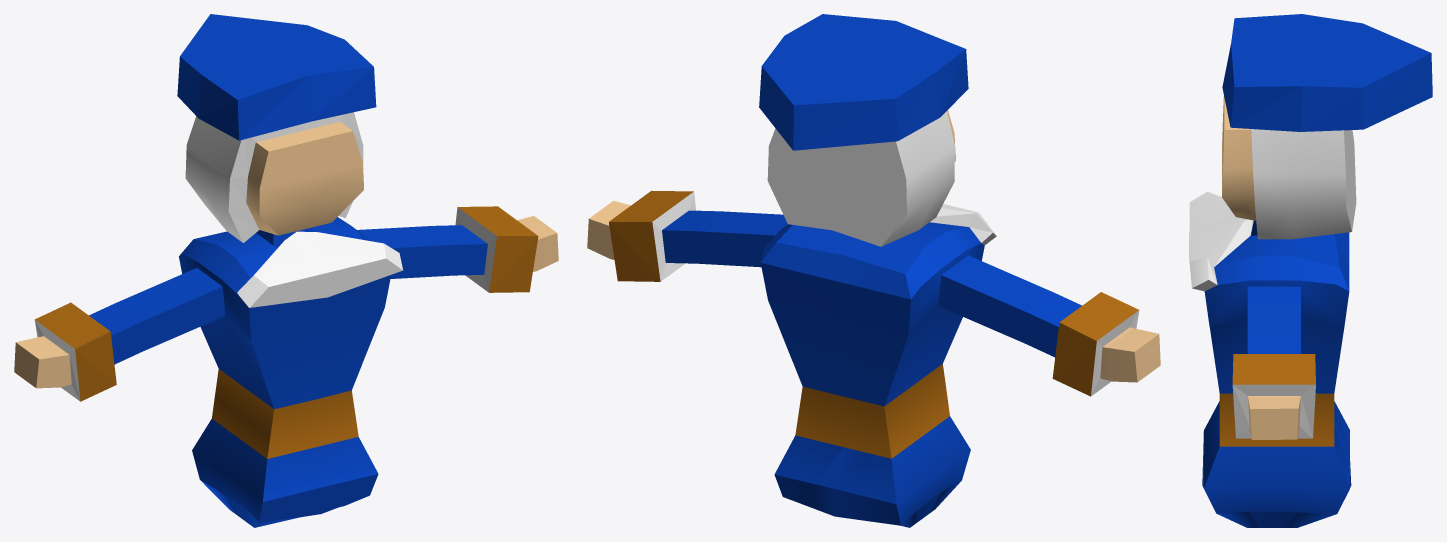
Rendered from CHAR_MaleD.FBX.
3 views of the same model, side by side, from view 1: azimuth 30°, elevation 25°; view 2: azimuth 150°, elevation 25°; view 3: azimuth 270°, elevation 25° (orthographic). The views are drawn at different scales.
Parts seen in each view (by area): view 1: CHAR_Male002; view 2: CHAR_Male002; view 3: CHAR_Male002.
Part boxes in pixels (x1,y1,x2,y2): CHAR_Male002: (14,14,558,527); CHAR_Male002: (587,14,1160,527); CHAR_Male002: (1189,14,1432,527).
Bounding box in the file's own units: 41.25 × 34.23 × 16.13.
